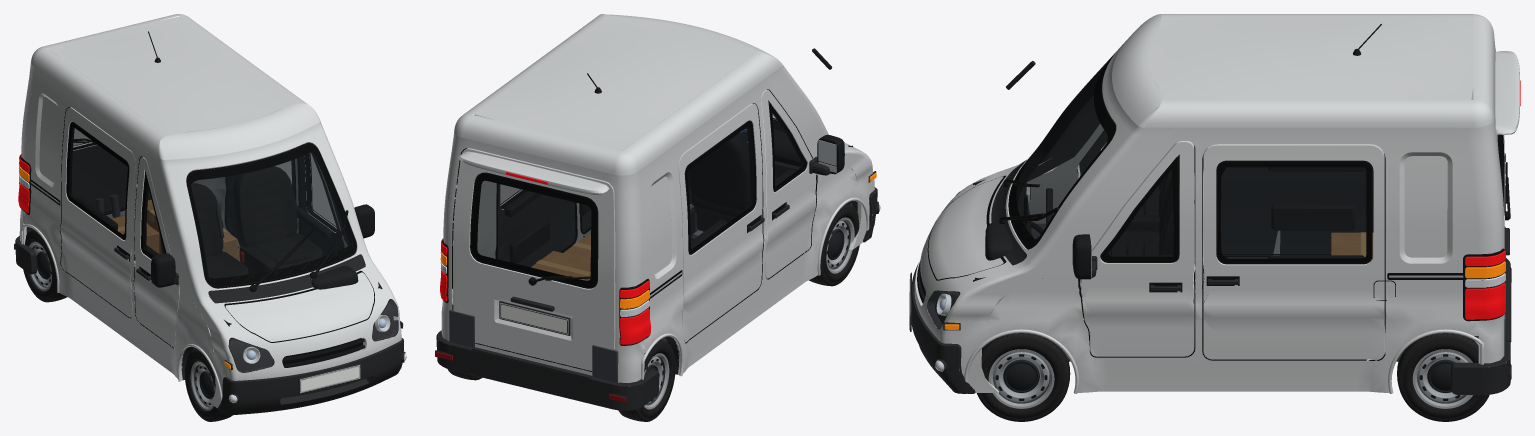
The model's file is kei-micro-van.glb.
3 views of the same model, side by side, from view 1: azimuth 30°, elevation 25°; view 2: azimuth 150°, elevation 25°; view 3: azimuth 270°, elevation 25° (orthographic). The views are drawn at different scales.
Visible parts, largest first — view 1: Kei_Micro_Van, Sliding_Door_R, Door_R, Door_L, Tailgate, Wheel_Front_R, Wheel_Rear_R, Sliding_Door_L; view 2: Kei_Micro_Van, Tailgate, Sliding_Door_R, Door_R, Sliding_Door_L, Wheel_Front_R, Wheel_Rear_R; view 3: Kei_Micro_Van, Sliding_Door_L, Door_L, Sliding_Door_R, Wheel_Front_L, Wheel_Rear_L, Tailgate.
Part boxes in pixels (x1,y1,x2,y2): Kei_Micro_Van: [14, 14, 406, 415]; Sliding_Door_R: [60, 107, 135, 317]; Door_R: [134, 157, 179, 347]; Door_L: [296, 144, 374, 266]; Tailgate: [71, 129, 151, 213]; Wheel_Front_R: [184, 349, 232, 421]; Wheel_Rear_R: [23, 229, 66, 302]; Sliding_Door_L: [226, 160, 296, 234]; Kei_Micro_Van: [435, 14, 880, 410]; Tailgate: [452, 148, 615, 370]; Sliding_Door_R: [678, 103, 764, 342]; Door_R: [747, 89, 844, 278]; Sliding_Door_L: [495, 184, 575, 267]; Wheel_Front_R: [809, 203, 859, 286]; Wheel_Rear_R: [618, 339, 675, 421]; Kei_Micro_Van: [909, 14, 1511, 394]; Sliding_Door_L: [1203, 144, 1385, 359]; Door_L: [1072, 141, 1203, 356]; Sliding_Door_R: [1216, 161, 1373, 255]; Wheel_Front_L: [977, 333, 1070, 421]; Wheel_Rear_L: [1397, 333, 1489, 421]; Tailgate: [1495, 50, 1520, 255].
Size of the model in its own units: 1.89 by 2.2 by 3.52.
57 materials, 11 textured.
